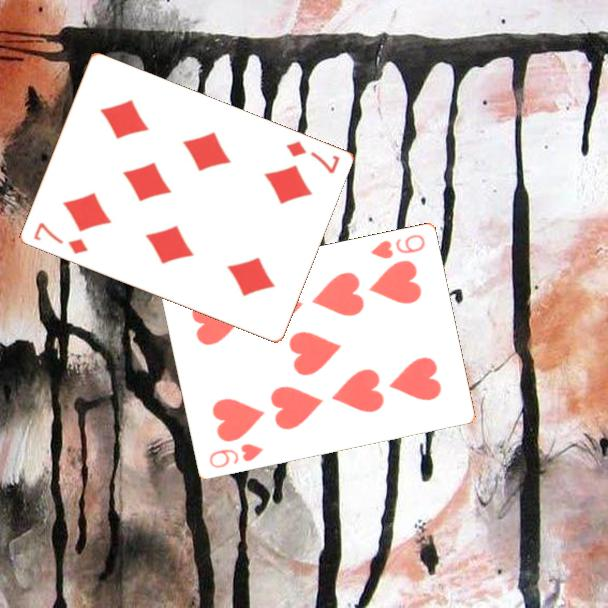d07: (282, 138, 342, 177), (29, 219, 90, 257)
h09: (205, 440, 266, 471), (367, 231, 428, 262)
